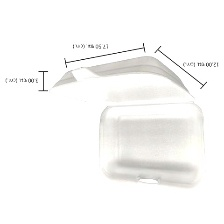foam_box: (45, 52, 212, 196)
